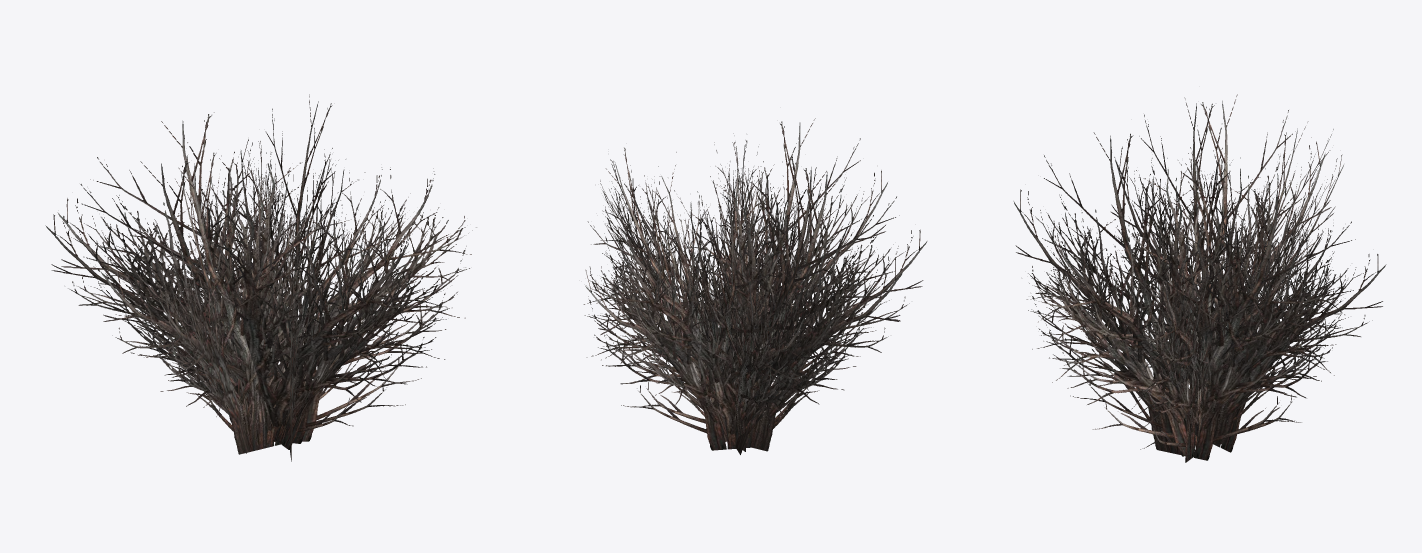
File: p_dry_bush.glb
3 renders of one model, left to right at view 1: azimuth 30°, elevation 25°; view 2: azimuth 150°, elevation 25°; view 3: azimuth 270°, elevation 25°, orthographic. The views are drawn at different scales.
Parts seen in each view (by area): view 1: Bush; view 2: Bush; view 3: Bush.
Part boxes in pixels (x1=…): Bush: x1=45, y1=94, x2=476, y2=461; Bush: x1=583, y1=118, x2=927, y2=454; Bush: x1=1013, y1=94, x2=1386, y2=462.
Bounding box in the file's own units: 0.913 × 0.7278 × 0.8185.
1 material, 1 textured.
